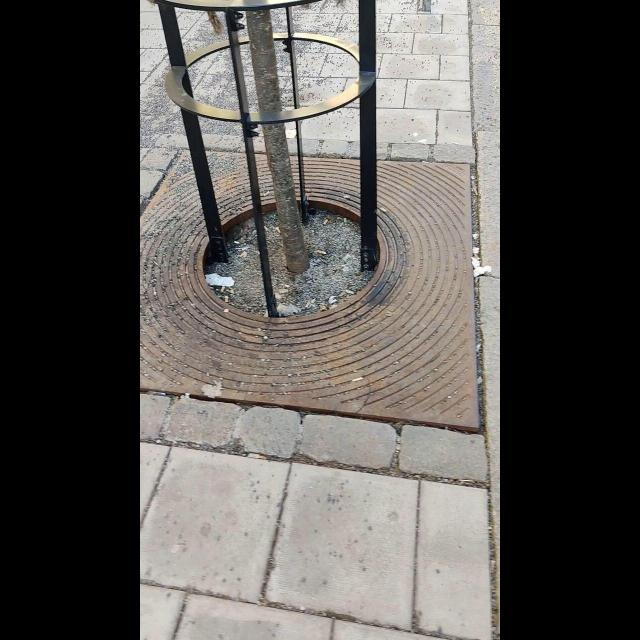cigarette: (316, 250, 328, 254), (225, 294, 230, 303), (305, 301, 310, 309), (474, 253, 479, 260), (240, 252, 246, 257), (276, 226, 280, 233), (323, 220, 328, 225), (264, 226, 268, 232), (222, 286, 224, 293)
